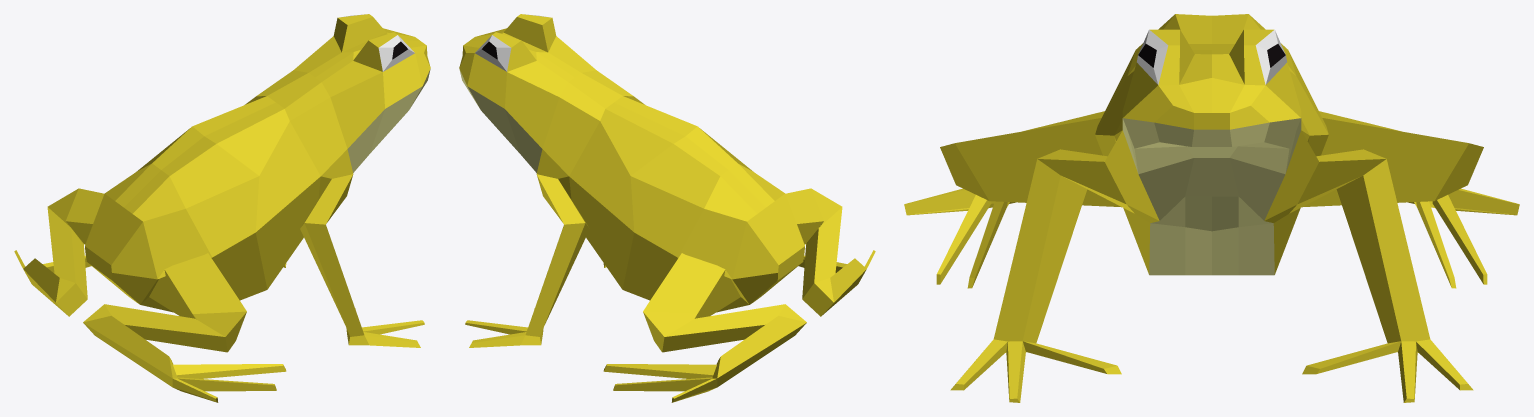
File: frog mirrored shapekeys 3.fbx
3 views of the same model, side by side, from view 1: azimuth 30°, elevation 25°; view 2: azimuth 150°, elevation 25°; view 3: azimuth 270°, elevation 25° (orthographic). The views are drawn at different scales.
Visible parts, largest first — view 1: Plane; view 2: Plane; view 3: Plane.
Boxes of the visible parts, x1=… form: Plane: x1=14, y1=14, x2=430, y2=402; Plane: x1=459, y1=14, x2=875, y2=402; Plane: x1=904, y1=14, x2=1519, y2=402.
Size of the model in its own units: 158 by 109 by 157.
